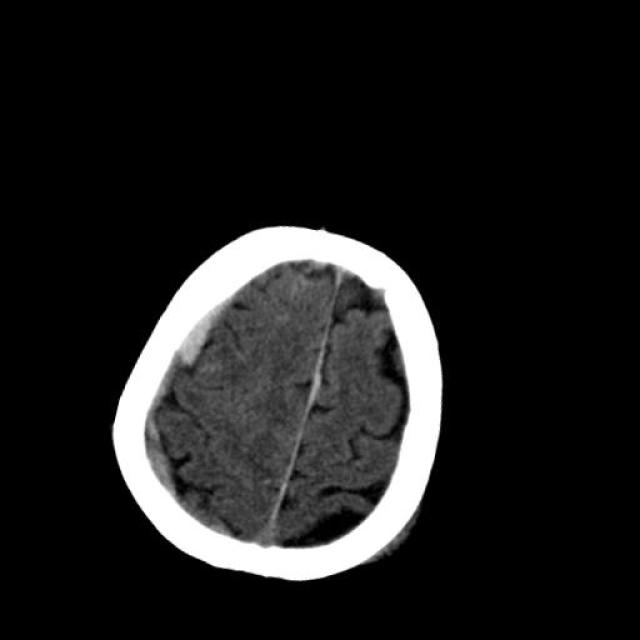Subdural: (96, 272, 234, 522)
